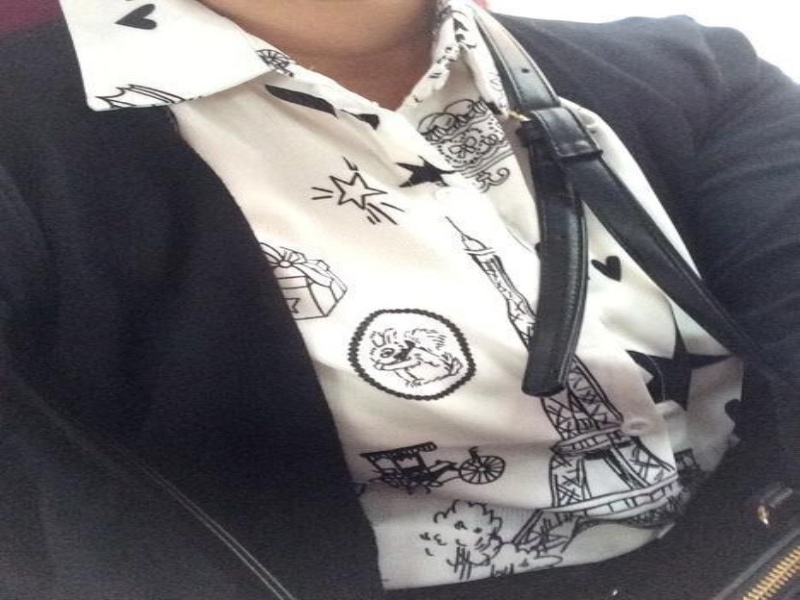long_sleeved_shirt: (3, 0, 798, 599)
